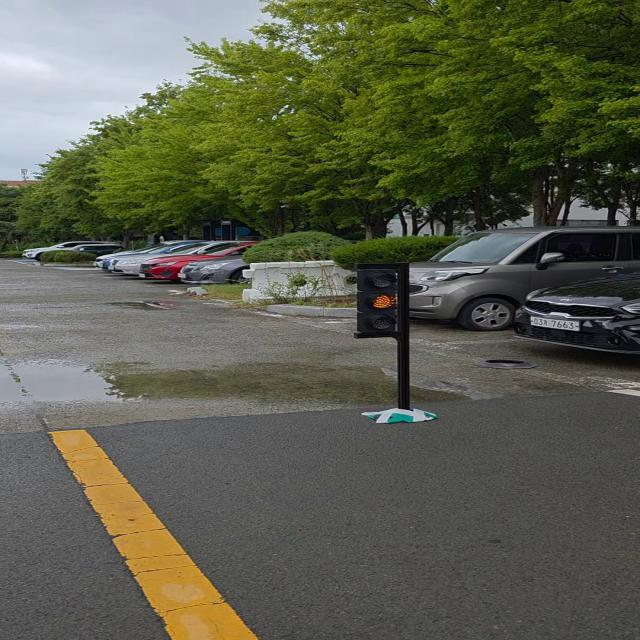yellow: (357, 263, 407, 336)
